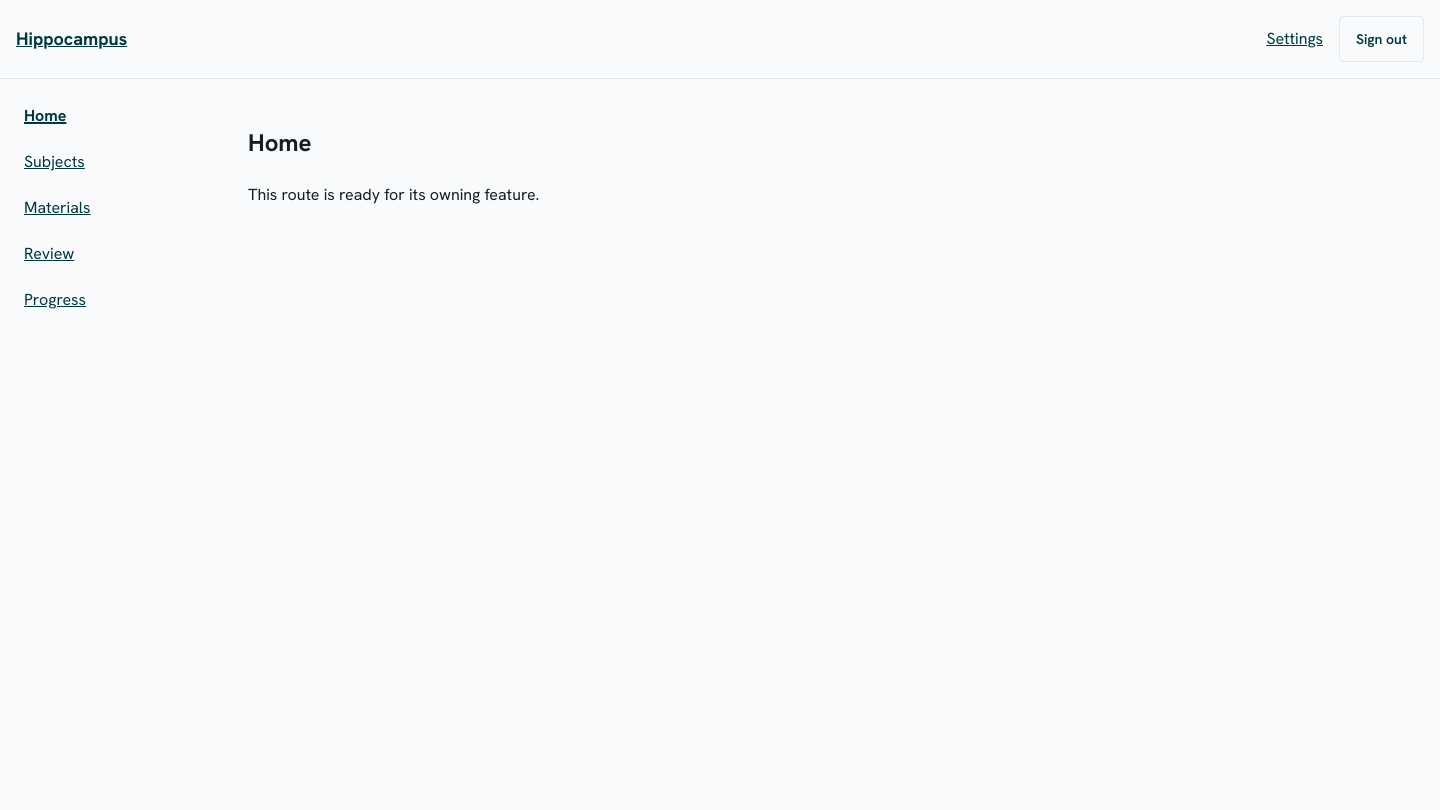
authentication routes › preserves private state when logout has a network failure
Expected: the heading "Home" is shown, [248,127,312,158]
Click the button "Sign out": click(1382, 39) [1339,16,1424,62]
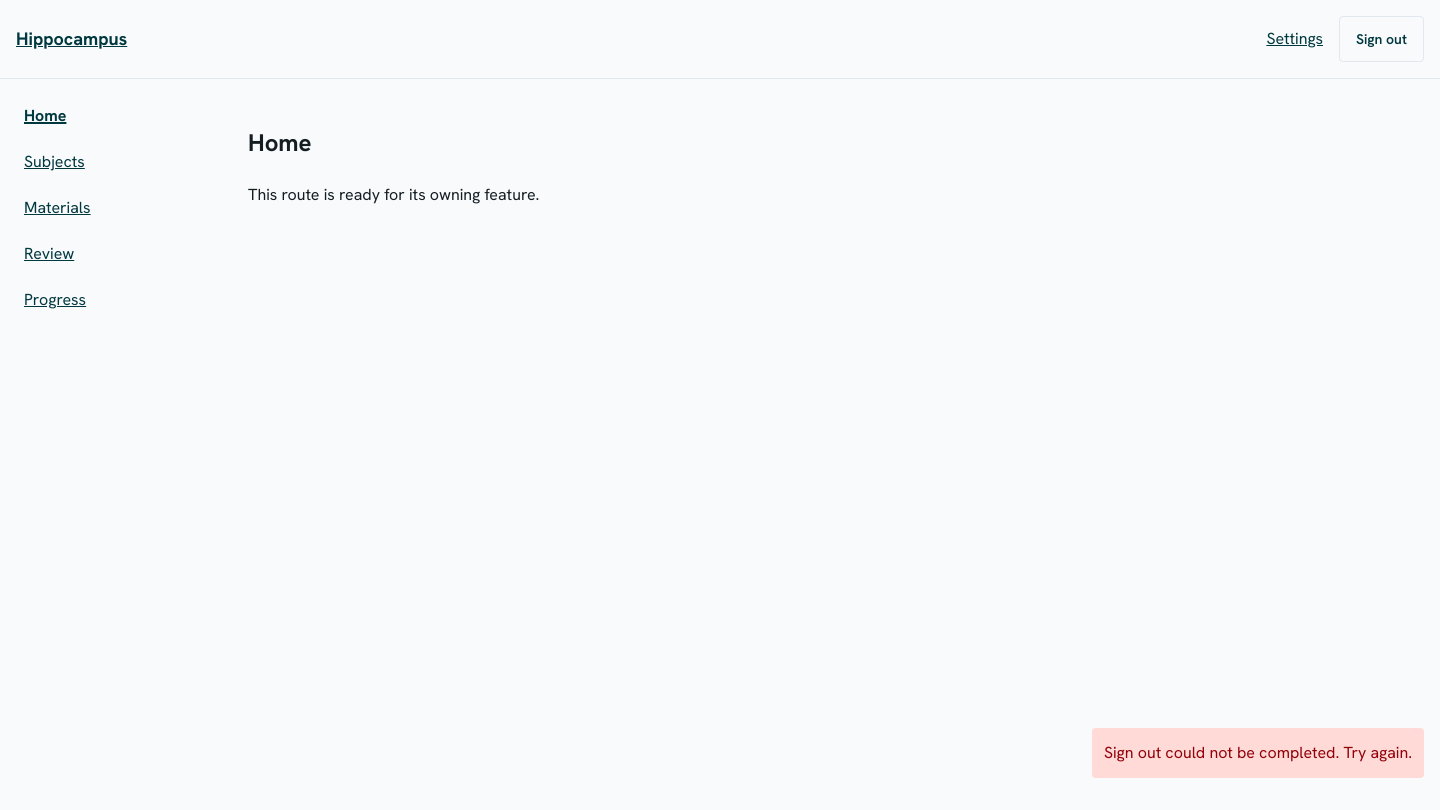
Expected: the navigation bar named "Primary navigation" is shown, [24,105,91,310]
Result: the message reads "Sign out could not be completed. Try again." at [1104,742,1412,763]
